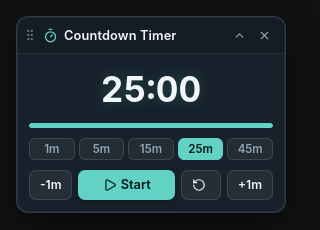
Test: Desktop Float Widgets › CountdownTimerWidget Component › toggles play/pause state when clicked
The image size is (320, 230).
Click the button with aria-label "Start timer". click: point(127, 185)
box: [78,170,175,200]
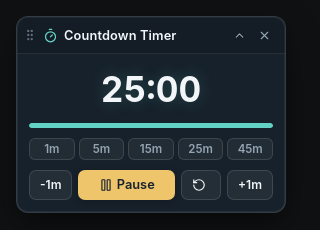
Check: the button with aria-label "Pause timer" is shown, box [78,170,175,200]
